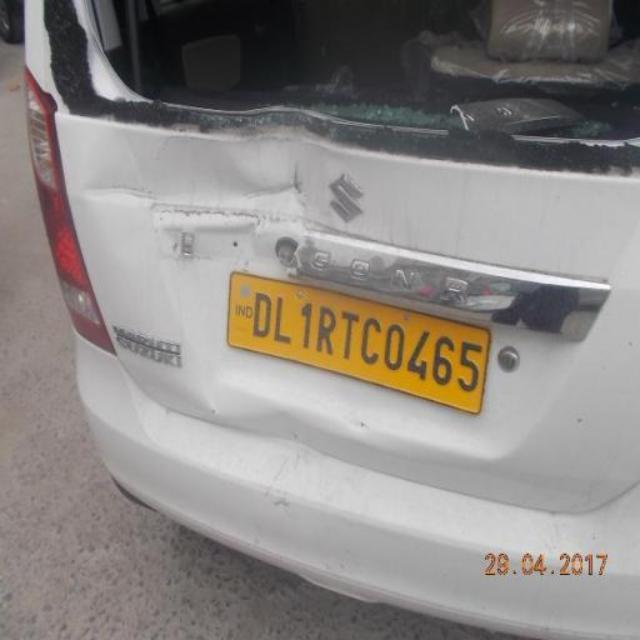crack: (156, 170, 340, 272)
dent: (210, 377, 339, 460), (82, 183, 165, 204)
glass shatter: (54, 1, 638, 166)
